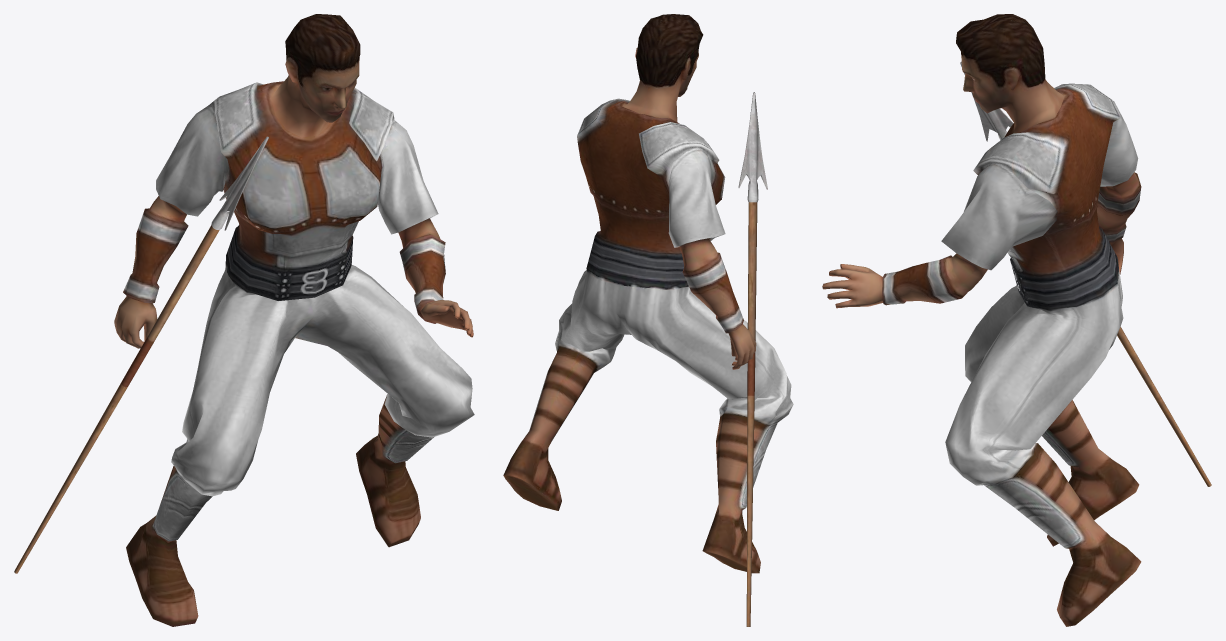
Rendered from rider-slice-mediumarchers.glb.
3 renders of one model, left to right at view 1: azimuth 30°, elevation 25°; view 2: azimuth 150°, elevation 25°; view 3: azimuth 270°, elevation 25°, orthographic. The views are drawn at different scales.
Size of the model in its own units: 1.14 by 1.93 by 1.18.
Materials: 2 (2 with a texture image).
